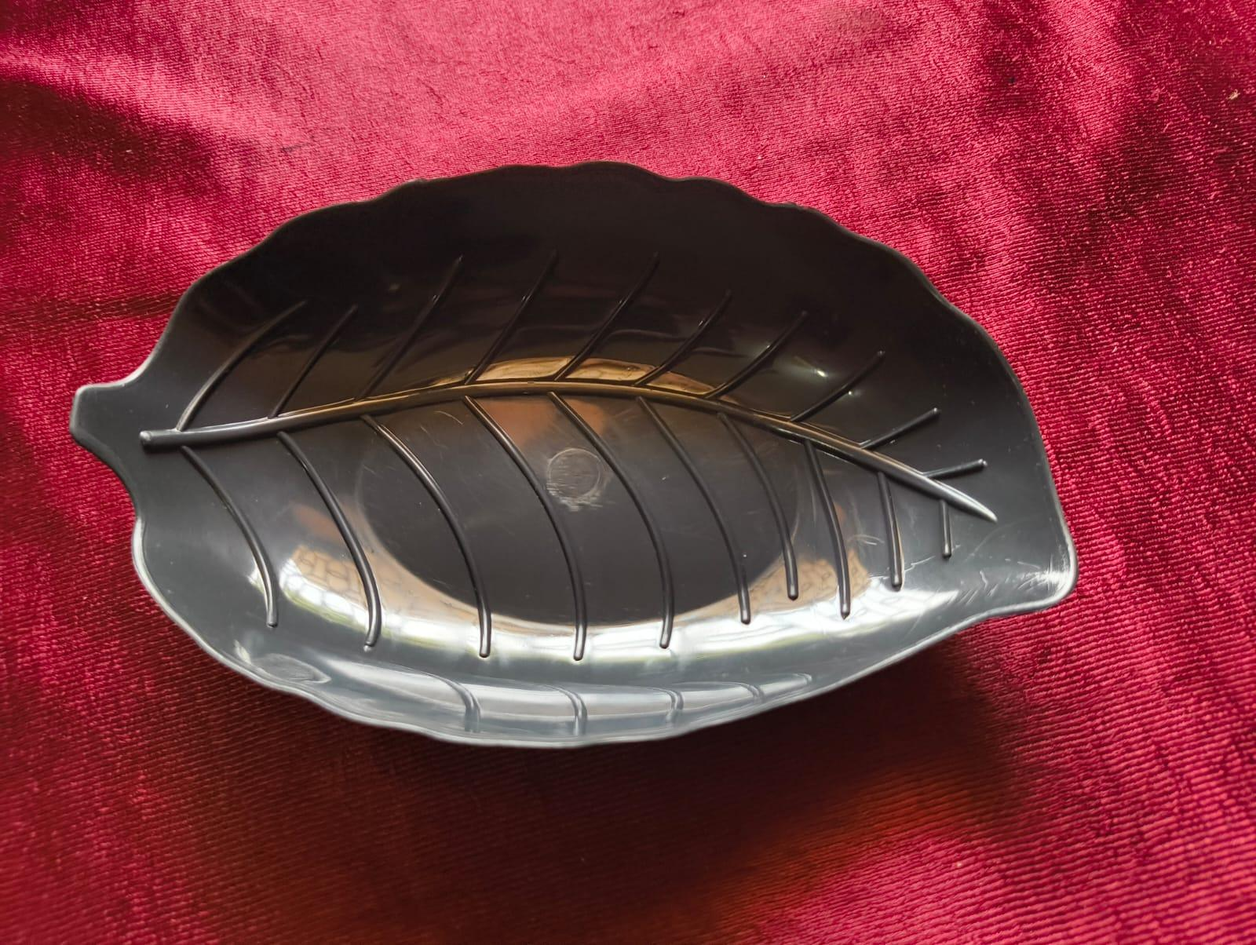plate: (49, 147, 1093, 773)
